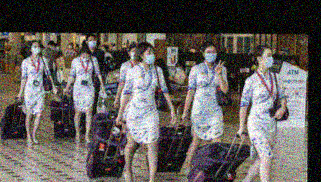with_mask: (143, 49, 156, 65), (263, 52, 275, 69), (204, 49, 218, 63), (31, 44, 41, 56), (87, 37, 96, 49), (79, 55, 91, 63), (130, 48, 136, 61), (67, 43, 73, 49), (175, 66, 181, 72), (55, 45, 60, 50), (50, 45, 54, 50)
